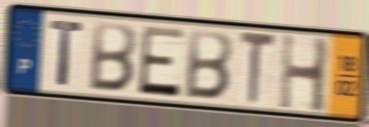B: (86, 19, 139, 96), (182, 27, 235, 103)
E: (136, 24, 187, 101)
H: (277, 30, 332, 117)
T: (238, 29, 278, 108), (48, 18, 86, 90)
